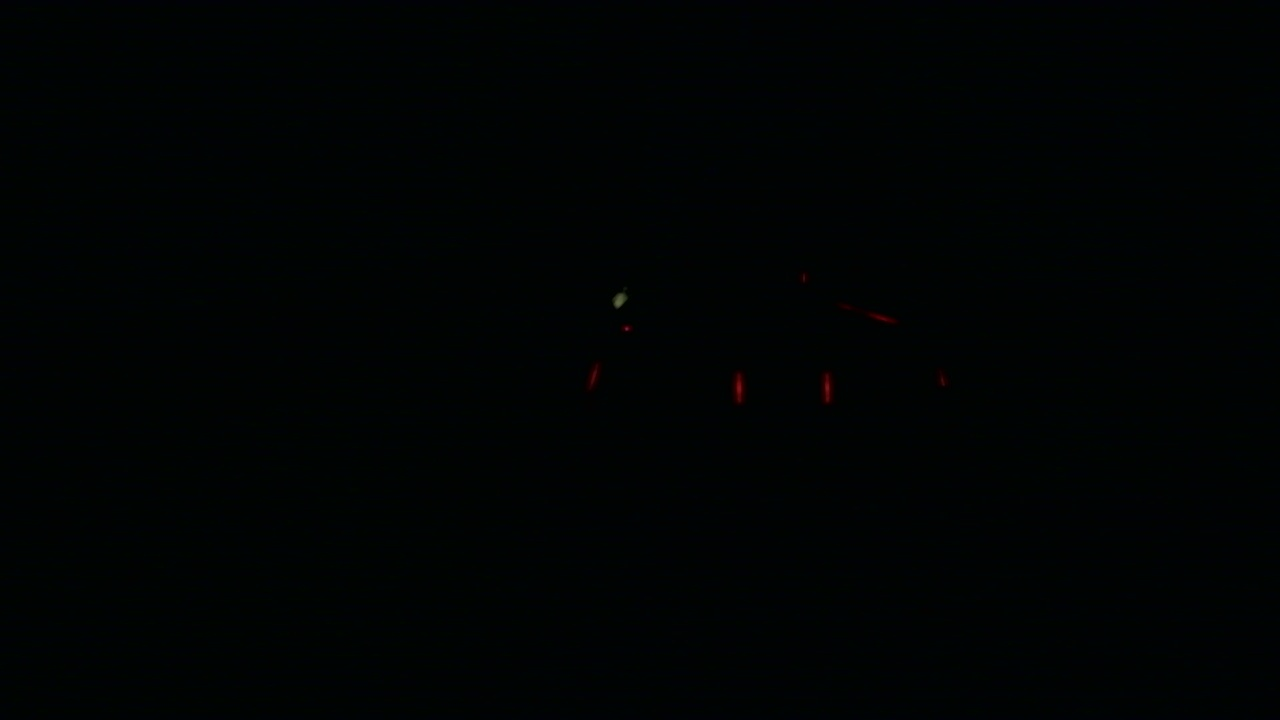lamp: (580, 352, 599, 406), (732, 370, 747, 404), (822, 370, 831, 402)
notpair1: (582, 355, 749, 407)
pair1: (731, 371, 834, 404)
